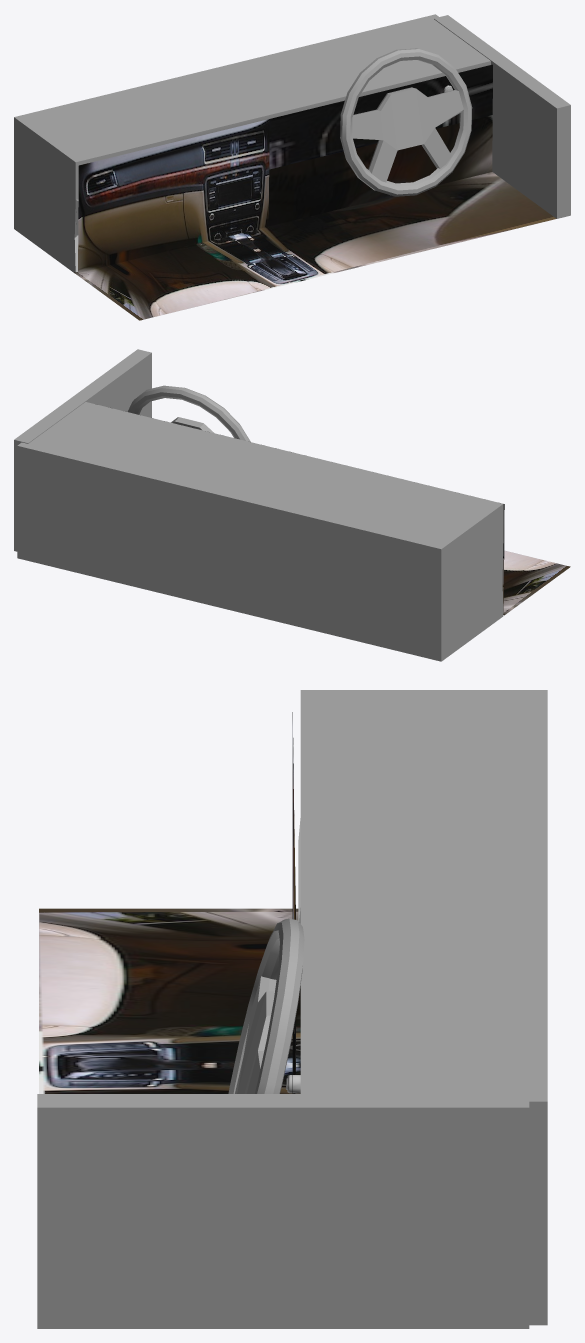
Rendered from car indoor.fbx.
3 views of the same model, one above another, from view 1: azimuth 30°, elevation 25°; view 2: azimuth 150°, elevation 25°; view 3: azimuth 270°, elevation 25° (orthographic). The views are drawn at different scales.
Parts seen in each view (by area): view 1: interior, dashbaord, seat_interior, steering, dooor; view 2: dashbaord, dooor, seat_interior, steering; view 3: dooor, dashbaord, seat_interior, steering.
Part boxes in pixels (x1,y1,x2,y2): interior: (78,64,492,272); dashbaord: (14,14,490,273); seat_interior: (74,172,556,320); steering: (340,48,472,196); dooor: (434,15,570,218); dashbaord: (17,402,503,661); dooor: (14,349,151,551); seat_interior: (503,550,570,615); steering: (127,385,250,441); dooor: (37,1094,529,1328); dashbaord: (298,690,547,1325); seat_interior: (39,908,300,1093); steering: (228,918,304,1093).
Bounding box in the file's own units: 502 × 164 × 257.
Materials: 4 (2 with a texture image).
